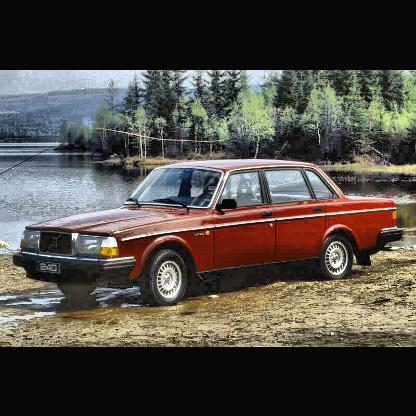Volvo 240 Sedan 1993: (9, 152, 405, 310)
